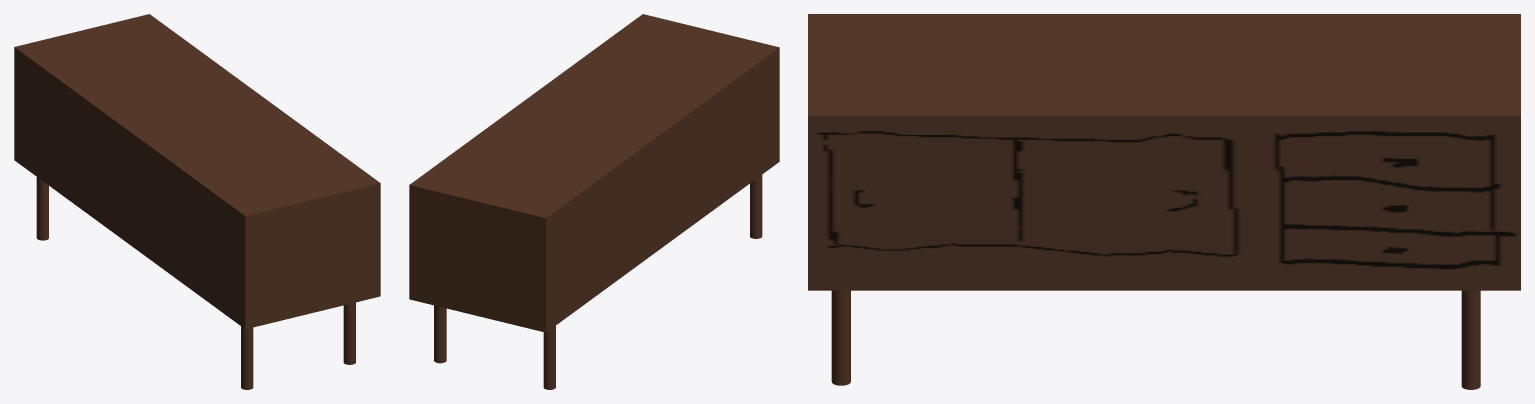
The model's file is komoda.glb.
3 renders of one model, left to right at view 1: azimuth 30°, elevation 25°; view 2: azimuth 150°, elevation 25°; view 3: azimuth 270°, elevation 25°, orthographic. The views are drawn at different scales.
Visible parts, largest first — view 1: Cube, Cylinder.001; view 2: Cube, Cylinder.001; view 3: Cube, Cylinder.001.
Boxes of the visible parts, <box> form: Cube: <box>14,14,380,329</box>; Cylinder.001: <box>36,177,355,389</box>; Cube: <box>409,14,779,332</box>; Cylinder.001: <box>434,175,762,389</box>; Cube: <box>808,14,1520,290</box>; Cylinder.001: <box>831,290,1480,389</box>.
Bounding box in the file's own units: 2 × 2.57 × 5.92.
Materials: 2 (2 with a texture image).
